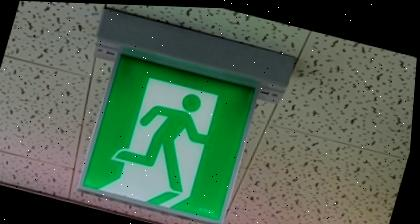emergency_exit: (75, 47, 259, 223)
